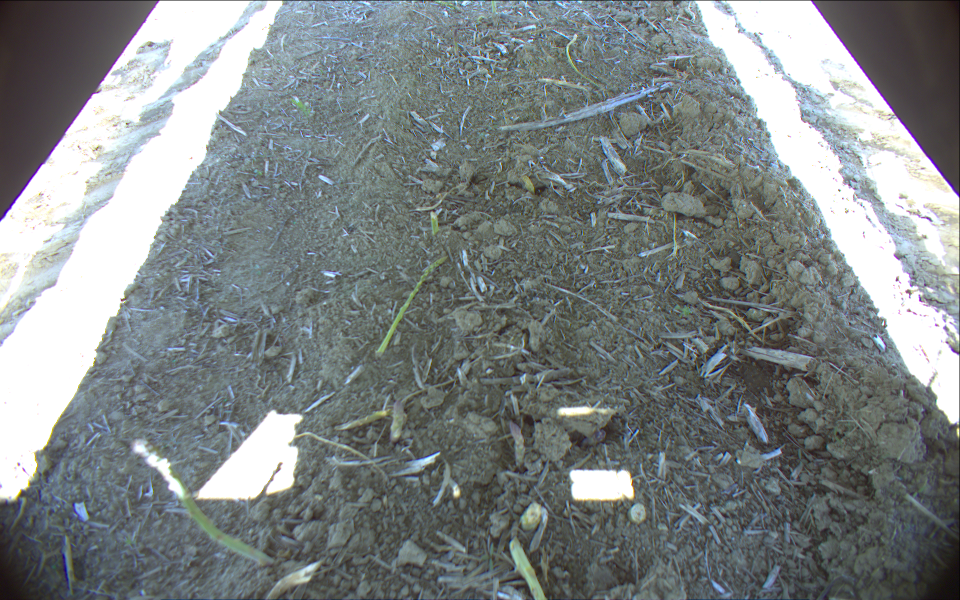aspa: (125, 434, 277, 569)
